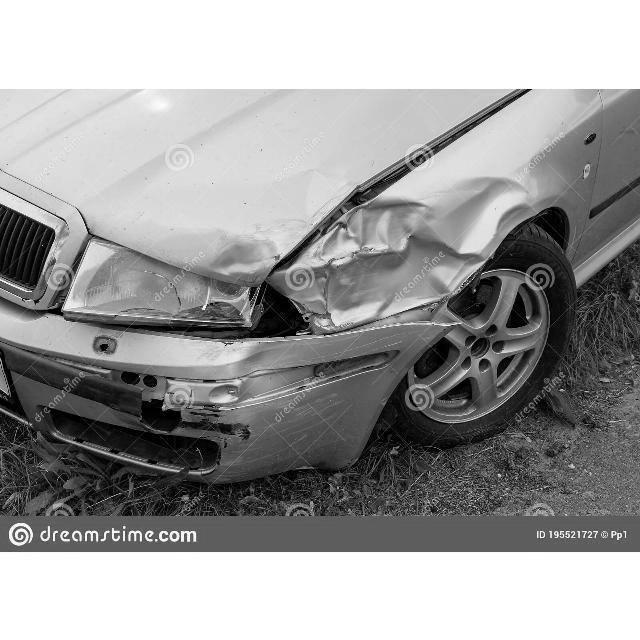Headlight-damage: (56, 235, 276, 351)
bonnet-dent: (0, 89, 312, 293)
fender-dent: (315, 153, 580, 347)
front-bumper-dent: (5, 324, 392, 476)
